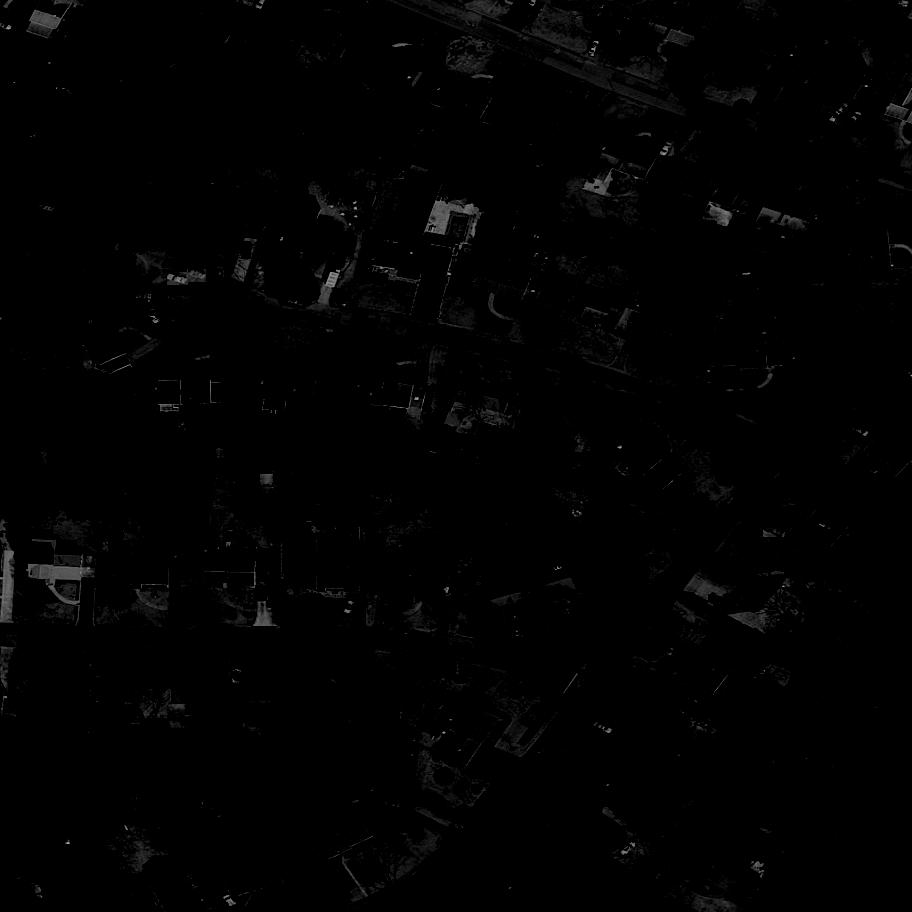large-vehicle: (592, 23, 613, 45), (843, 109, 863, 132), (826, 116, 839, 134)
ship: (246, 19, 263, 44)
small-vehicle: (513, 4, 533, 26), (682, 868, 704, 888), (863, 65, 883, 87), (474, 635, 496, 653), (618, 840, 638, 859), (90, 665, 106, 688), (748, 513, 768, 531), (611, 22, 628, 43), (377, 892, 399, 908), (583, 839, 601, 858), (405, 45, 422, 65), (740, 153, 757, 173), (593, 723, 614, 739), (207, 274, 226, 291), (188, 269, 207, 286), (853, 149, 873, 165), (342, 598, 358, 618), (657, 518, 678, 533), (708, 594, 732, 607), (764, 524, 786, 538), (327, 671, 344, 689), (514, 381, 530, 400), (701, 373, 717, 392), (659, 140, 674, 160), (850, 424, 870, 439), (19, 620, 42, 633), (383, 797, 404, 811), (167, 272, 189, 285), (642, 520, 661, 535), (617, 729, 637, 743), (493, 606, 508, 624), (505, 603, 519, 622), (194, 886, 208, 905), (155, 291, 177, 303), (654, 672, 674, 685), (834, 103, 850, 119), (629, 414, 644, 431), (229, 668, 243, 686), (417, 29, 430, 48), (304, 625, 328, 635), (150, 306, 162, 326), (520, 367, 535, 383), (153, 829, 165, 848), (651, 133, 663, 152), (241, 241, 253, 260), (676, 48, 690, 64), (588, 40, 601, 57), (860, 89, 871, 109), (206, 267, 224, 279), (667, 643, 679, 661), (713, 378, 724, 397), (258, 318, 277, 329), (124, 292, 150, 300), (256, 585, 268, 602), (430, 288, 441, 305), (99, 624, 117, 634), (169, 594, 179, 611), (518, 305, 528, 320), (342, 674, 352, 688), (513, 621, 521, 638), (394, 629, 409, 636), (377, 607, 385, 620), (382, 589, 388, 604)
